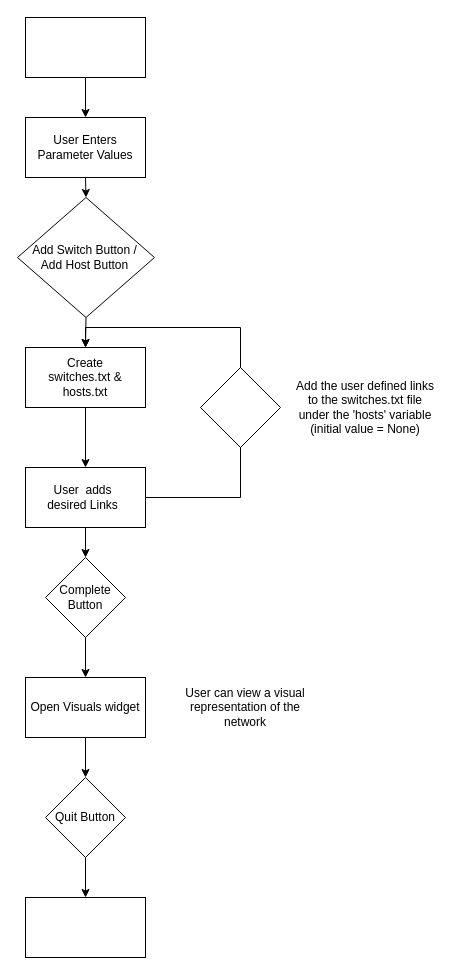
Some shapes in this 458 by 975 pixel diagram are drawn without their labels. The shapes that lost their labels are listed below. From the top down, each one's centre as x and y in pixels, then its label:
At pixel 85 47: "GUI".
At pixel 240 407: "Add Link Button".
At pixel 85 927: "All files Closed and saved.".
